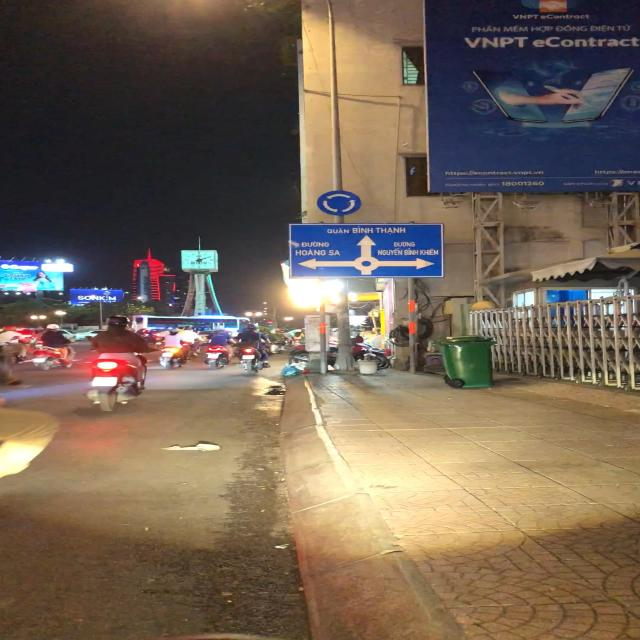Bien bao noi giao nhau chay theo vong xuyen: (317, 190, 364, 217)
